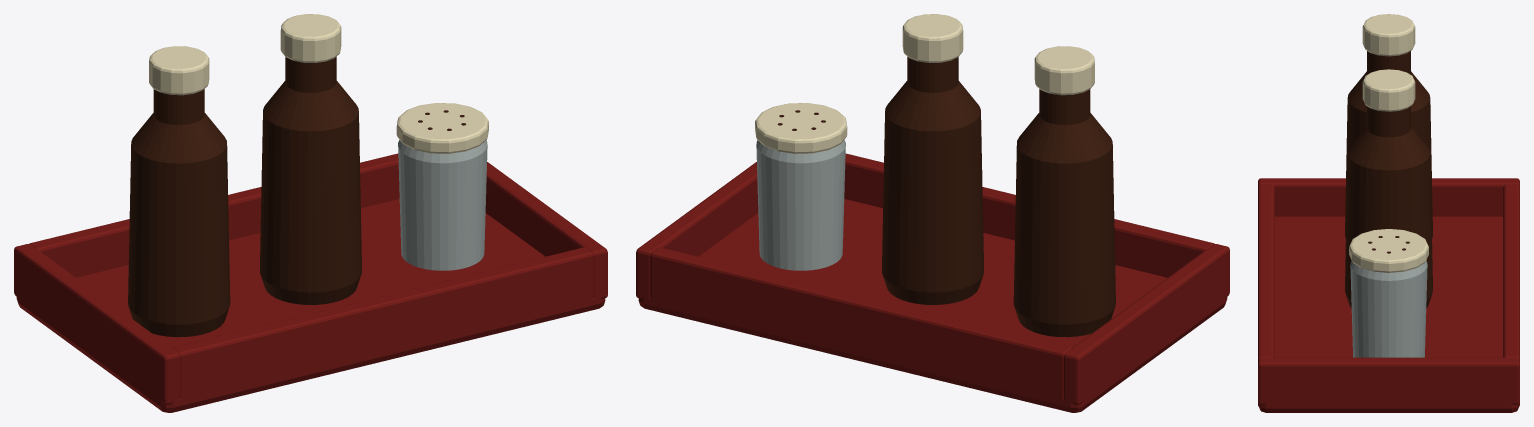
3 views of the same model, side by side, from view 1: azimuth 30°, elevation 25°; view 2: azimuth 150°, elevation 25°; view 3: azimuth 270°, elevation 25° (orthographic). The views are drawn at different scales.
Visible parts, largest first — view 1: TRAY_End, BOTTLE_Sauce, BOTTLE_Sauce.001, TRAY_Base, SHAKER_Body, TRAY_Side, TRAY_End.001, TRAY_Side.001, SHAKER_Cap, CAP_Sauce, CAP_Sauce.001; view 2: TRAY_End.001, BOTTLE_Sauce, BOTTLE_Sauce.001, TRAY_Base, SHAKER_Body, TRAY_Side, TRAY_End, TRAY_Side.001, SHAKER_Cap, CAP_Sauce, CAP_Sauce.001; view 3: TRAY_Base, TRAY_Side.001, BOTTLE_Sauce, SHAKER_Body, TRAY_Side, BOTTLE_Sauce.001, TRAY_End, TRAY_End.001, SHAKER_Cap, CAP_Sauce.001, CAP_Sauce.
Part boxes in pixels (x1,y1,x2,y2): TRAY_End: [172, 247, 593, 399]; BOTTLE_Sauce: [260, 57, 361, 304]; BOTTLE_Sauce.001: [128, 89, 230, 337]; TRAY_Base: [16, 199, 605, 412]; SHAKER_Body: [398, 140, 487, 270]; TRAY_Side: [14, 244, 179, 404]; TRAY_End.001: [29, 153, 399, 277]; TRAY_Side.001: [485, 162, 607, 298]; SHAKER_Cap: [396, 103, 488, 153]; CAP_Sauce: [280, 14, 341, 62]; CAP_Sauce.001: [149, 46, 209, 95]; TRAY_End.001: [650, 247, 1071, 399]; BOTTLE_Sauce: [882, 57, 983, 304]; BOTTLE_Sauce.001: [1013, 89, 1115, 337]; TRAY_Base: [638, 199, 1227, 412]; SHAKER_Body: [756, 140, 845, 270]; TRAY_Side: [1064, 244, 1229, 404]; TRAY_End: [844, 153, 1214, 277]; TRAY_Side.001: [636, 162, 758, 298]; SHAKER_Cap: [755, 103, 847, 153]; CAP_Sauce: [902, 14, 963, 62]; CAP_Sauce.001: [1034, 46, 1094, 95]; TRAY_Base: [1258, 216, 1519, 412]; TRAY_Side.001: [1258, 357, 1519, 404]; BOTTLE_Sauce: [1345, 106, 1432, 308]; SHAKER_Body: [1350, 260, 1427, 357]; TRAY_Side: [1258, 178, 1519, 216]; BOTTLE_Sauce.001: [1345, 51, 1432, 238]; TRAY_End: [1258, 184, 1274, 359]; TRAY_End.001: [1503, 184, 1519, 359]; SHAKER_Cap: [1349, 229, 1428, 272]; CAP_Sauce.001: [1362, 14, 1415, 56]; CAP_Sauce: [1362, 69, 1415, 111].
Bounding box in the file's own units: 0.32 × 0.195 × 0.19.
